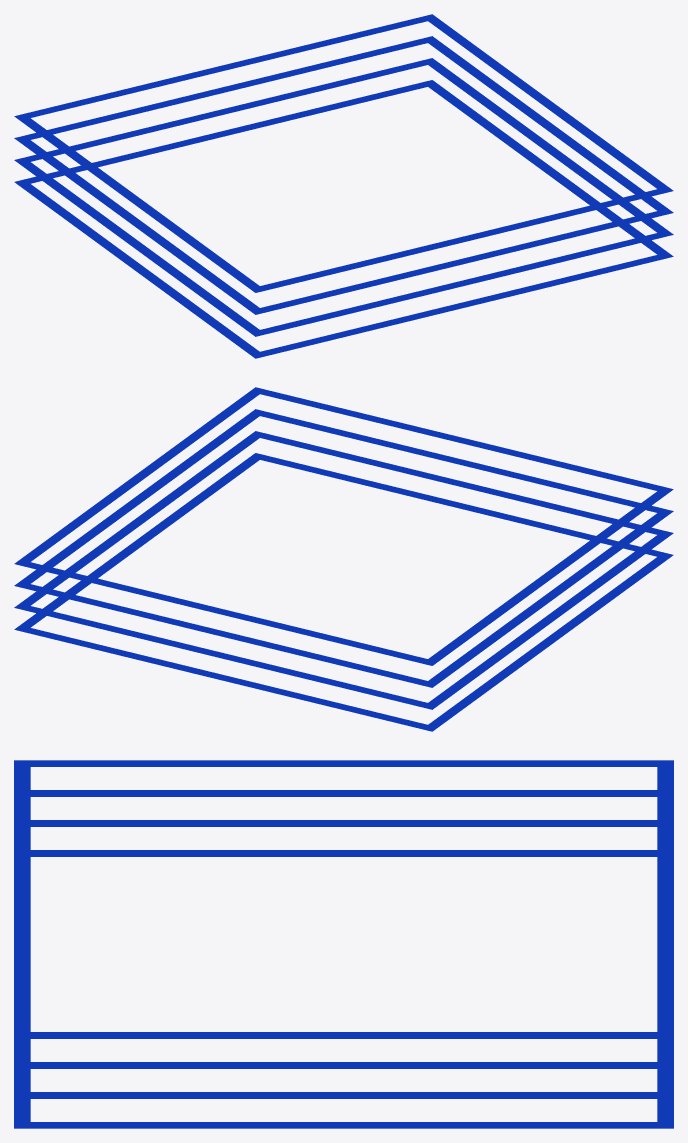
Rendered from driftsquare.fbx.
3 renders of one model, top to bottom at view 1: azimuth 30°, elevation 25°; view 2: azimuth 150°, elevation 25°; view 3: azimuth 270°, elevation 25°, orthographic. The views are drawn at different scales.
Parts seen in each view (by area): view 1: driftsquare; view 2: driftsquare; view 3: driftsquare.
Part boxes in pixels (<box>): driftsquare: <box>14,14,673,358</box>; driftsquare: <box>14,387,673,731</box>; driftsquare: <box>14,760,673,1128</box>.
Size of the model in its own units: 600 by 90 by 600.
